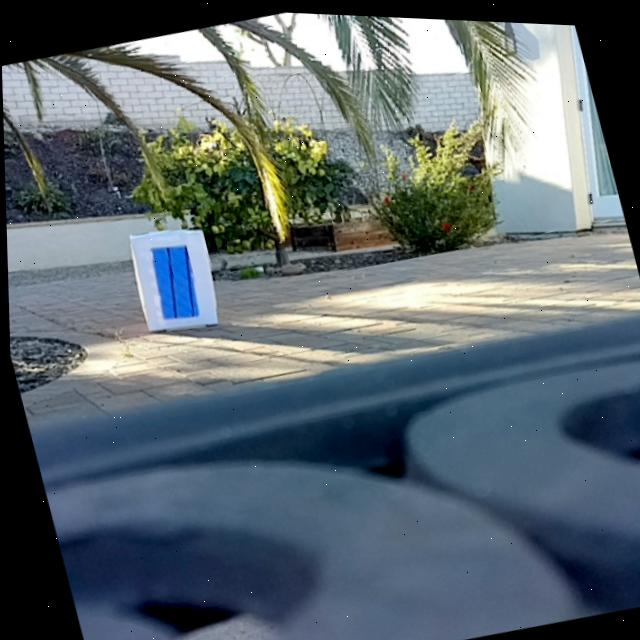led: (150, 242, 197, 322)
